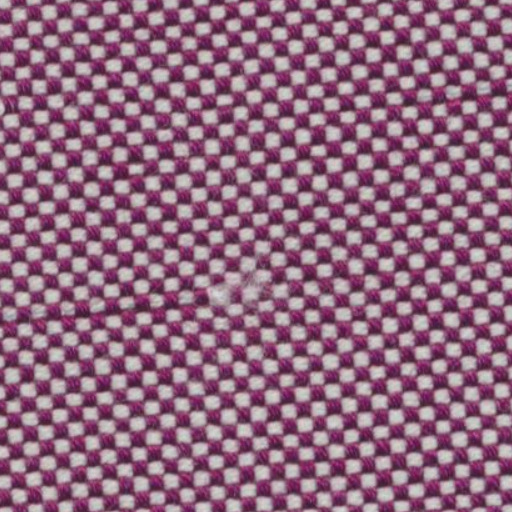TuoSha: (8, 258, 490, 342)
